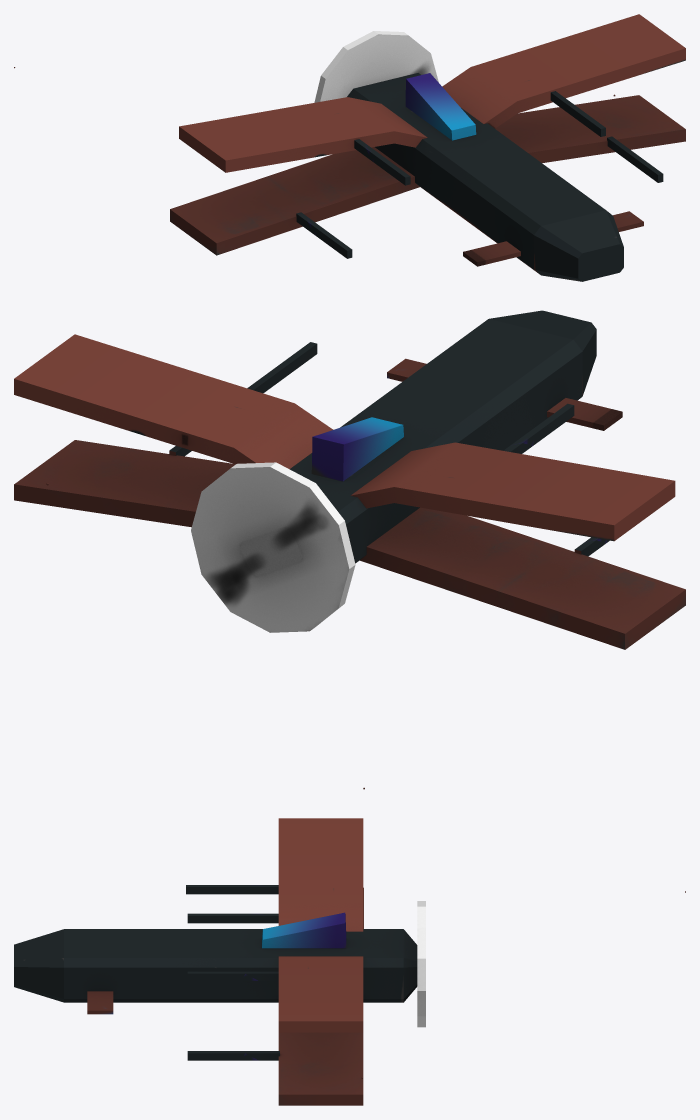
The model's file is DevastatorMesh.fbx.
The picture shows the model from 3 angles, top to bottom: view 1: azimuth 30°, elevation 25°; view 2: azimuth 150°, elevation 25°; view 3: azimuth 270°, elevation 25°; orthographic projection. The views are drawn at different scales.
Visible parts, largest first — view 1: SimpleDevastator; view 2: SimpleDevastator; view 3: SimpleDevastator.
Part boxes in pixels (left/top/right/bottom): SimpleDevastator: left=14, top=14, right=685, bottom=281; SimpleDevastator: left=14, top=310, right=685, bottom=789; SimpleDevastator: left=14, top=818, right=685, bottom=1105.
Bounding box in the file's own units: 573 × 149 × 786.
1 material, 1 textured.
